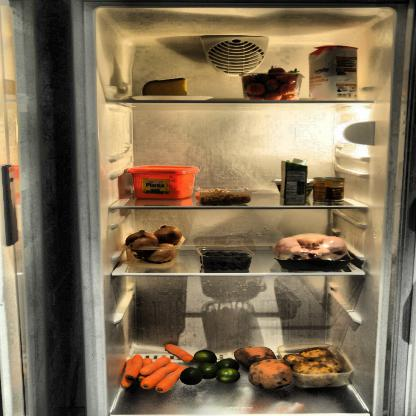blueberries: (198, 246, 256, 272)
butter: (128, 164, 196, 202)
carrot: (120, 342, 194, 394)
cheese: (140, 78, 190, 100)
chicken: (272, 232, 356, 270)
corn: (315, 176, 349, 204)
heavy_cream: (281, 157, 306, 205)
lime: (181, 348, 240, 383)
onion: (125, 225, 182, 265)
potato: (284, 344, 354, 388)
shrimp: (196, 187, 252, 204)
strawberries: (242, 66, 304, 101)
sweet_potato: (236, 342, 294, 392)
